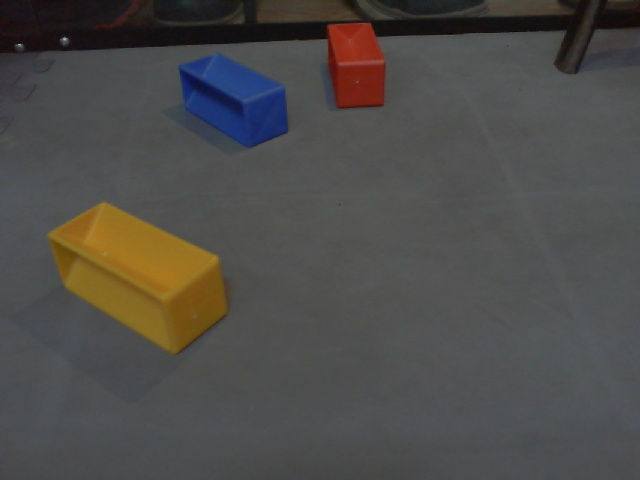BlueSample: (177, 52, 289, 148)
RedSample: (323, 20, 388, 110)
YellowSample: (44, 198, 231, 362)
